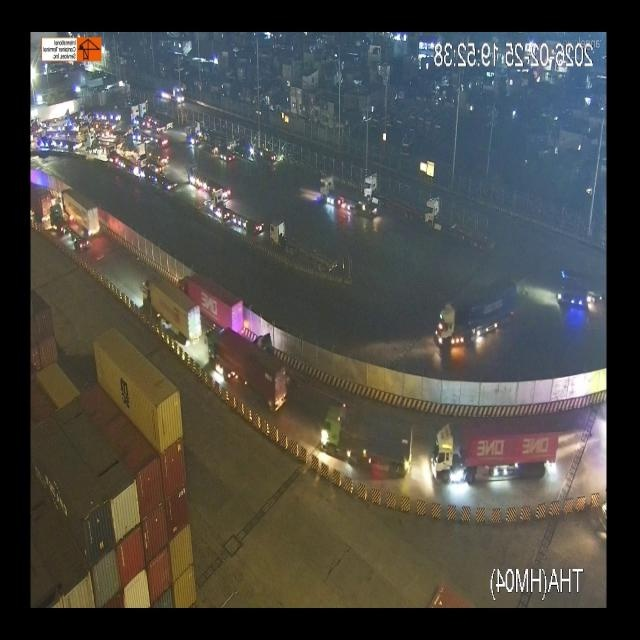truck: (421, 413, 563, 503), (317, 399, 419, 483), (207, 321, 300, 411), (429, 269, 526, 355), (138, 266, 206, 356), (180, 274, 244, 330), (420, 199, 486, 241), (42, 204, 102, 250), (65, 183, 112, 237), (362, 168, 404, 208), (317, 177, 358, 214), (28, 172, 52, 224)
